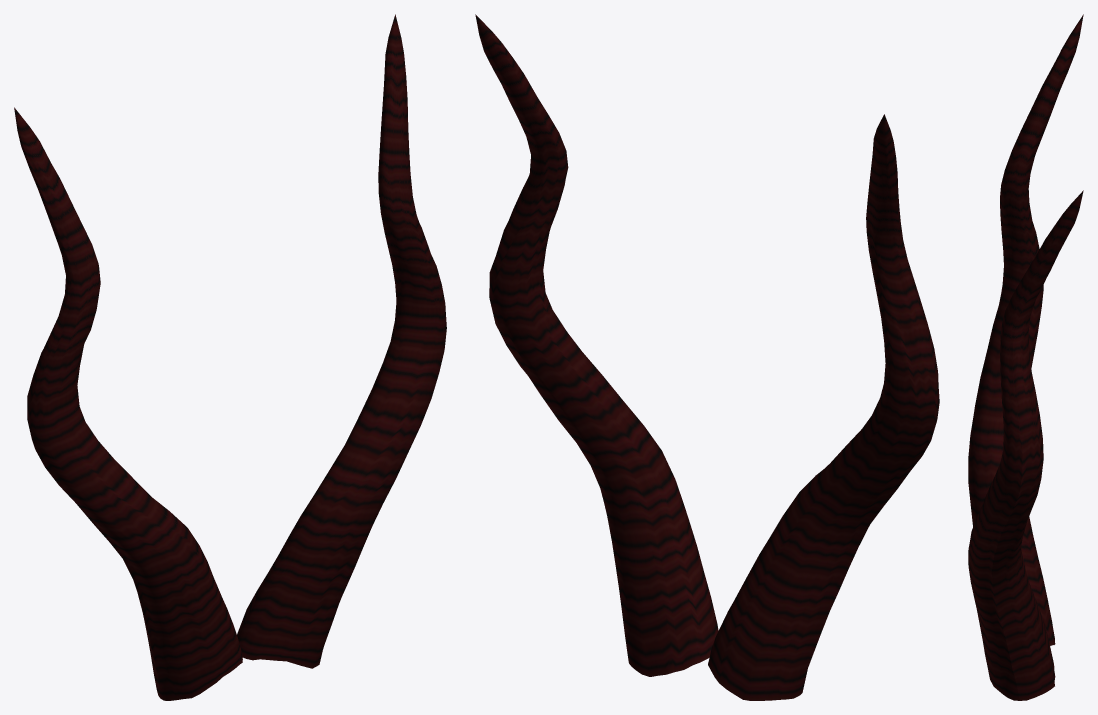
The model's file is gazellehorns.glb.
3 renders of one model, left to right at view 1: azimuth 30°, elevation 25°; view 2: azimuth 150°, elevation 25°; view 3: azimuth 270°, elevation 25°, orthographic. The views are drawn at different scales.
Parts seen in each view (by area): view 1: gazellehorns; view 2: gazellehorns; view 3: gazellehorns.
Part boxes in pixels (x1,y1,x2,y2): gazellehorns: (14, 14, 446, 700); gazellehorns: (475, 14, 939, 700); gazellehorns: (968, 14, 1083, 700).
Bounding box in the file's own units: 0.2444 × 0.3346 × 0.0621.
Materials: 1 (1 with a texture image).
